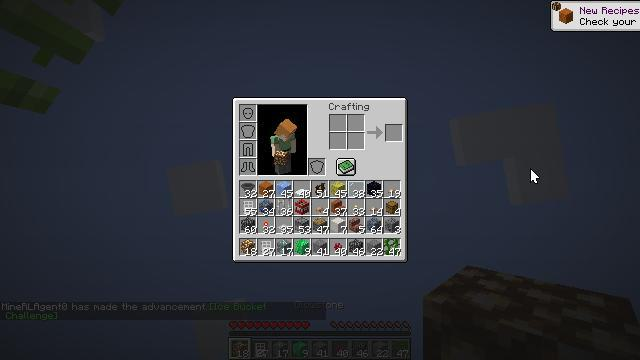cursor: (530, 168, 540, 184)
